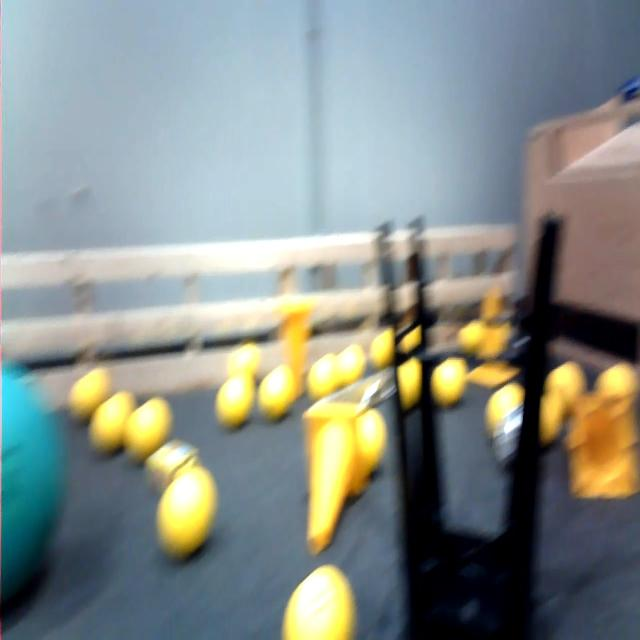fuel: (279, 559, 362, 640), (153, 466, 219, 560), (129, 394, 172, 469), (253, 361, 299, 428), (355, 396, 393, 475), (91, 392, 139, 454), (209, 371, 257, 433), (426, 351, 471, 414), (61, 360, 112, 415), (481, 376, 523, 435), (544, 361, 586, 415), (306, 348, 343, 397), (591, 364, 639, 401), (222, 336, 262, 380), (394, 351, 426, 406), (333, 338, 367, 381), (367, 323, 400, 366)
